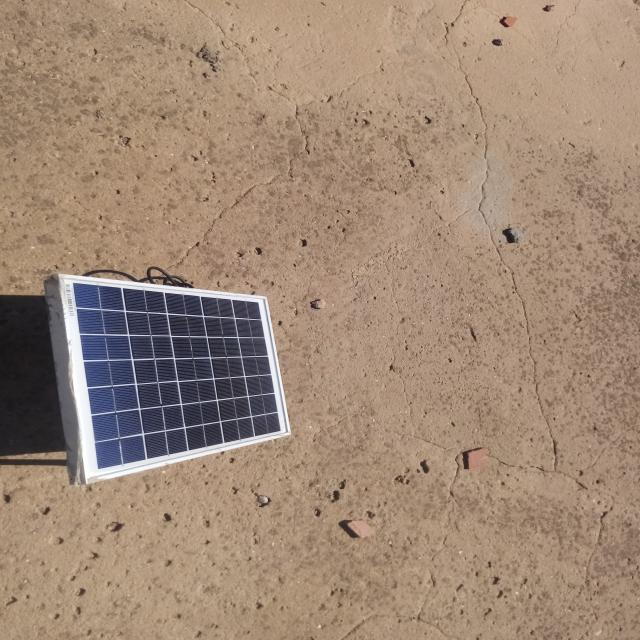no faulty: (58, 277, 291, 483)
